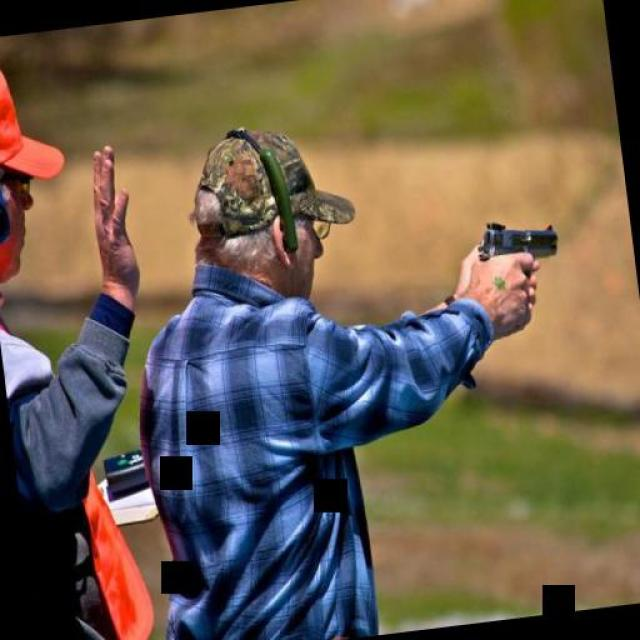gun: (467, 206, 562, 278)
